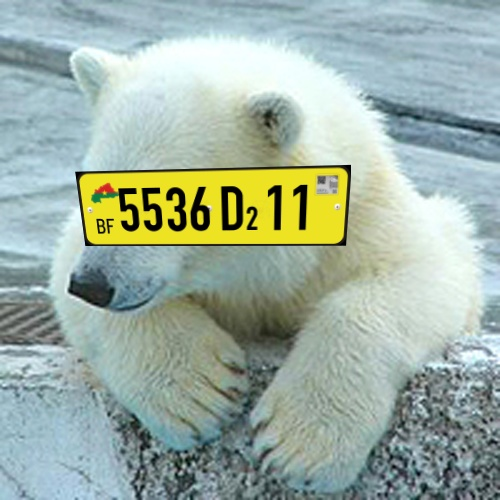plate: (57, 149, 366, 277)
